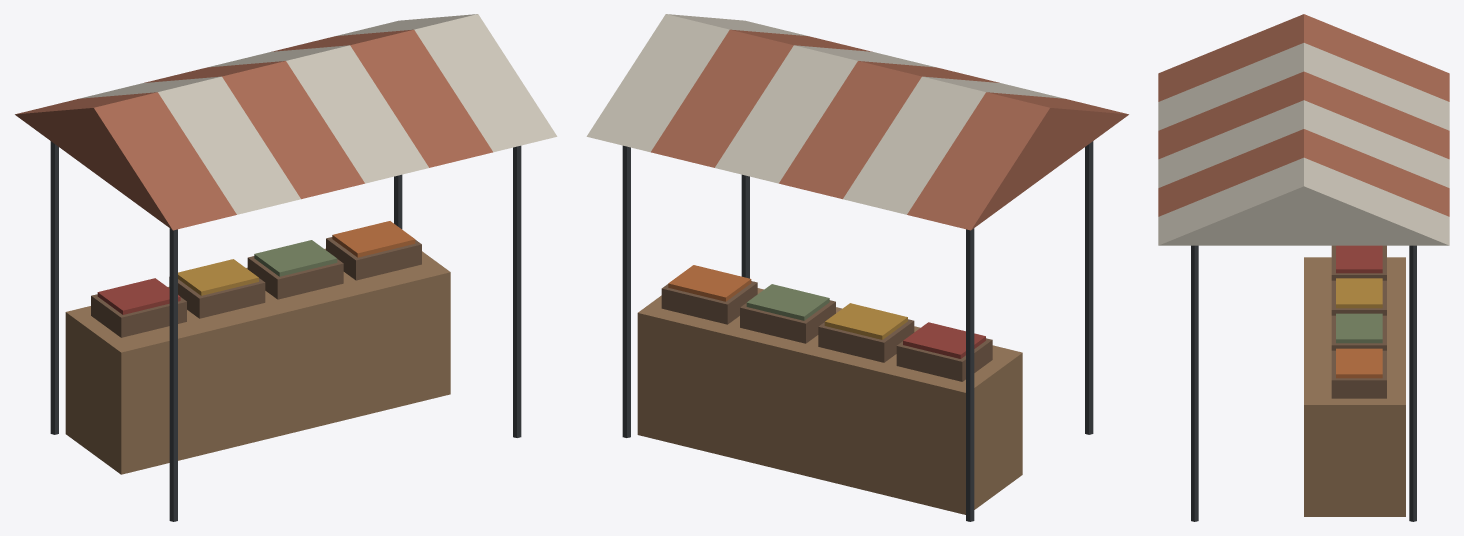
File: market-stall-95EXfWTo.glb
3 views of the same model, side by side, from view 1: azimuth 30°, elevation 25°; view 2: azimuth 150°, elevation 25°; view 3: azimuth 270°, elevation 25° (orthographic). The views are drawn at different scales.
Visible parts, largest first — view 1: market-stall; view 2: market-stall; view 3: market-stall.
Boxes of the visible parts, x1,y1,x2,y2 form: market-stall: (15, 14, 557, 521); market-stall: (586, 14, 1128, 521); market-stall: (1158, 14, 1449, 521).
Bounding box in the file's own units: 2.8 × 2.6 × 2.
